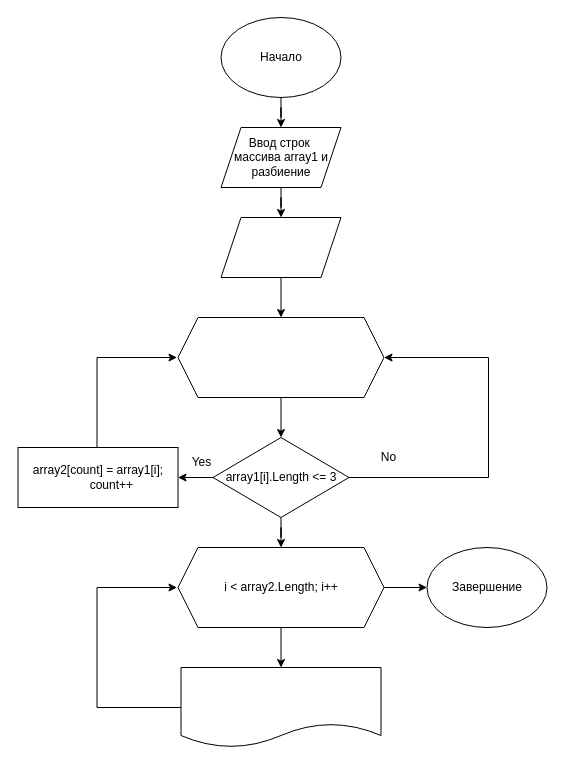
The diagram is 564 pixels wide and 765 high, and some of its shapes have lost their labels. The shapes that lost their labels are listed below. From the top down, each one's centre as x and y in pixels, then its label:
(x=280, y=247): String[] array1 String[} array2 int count = 0
(x=280, y=357): i < array1.Length; i++
(x=280, y=707): Console.Write($"{newmassiv[i]}, ")
